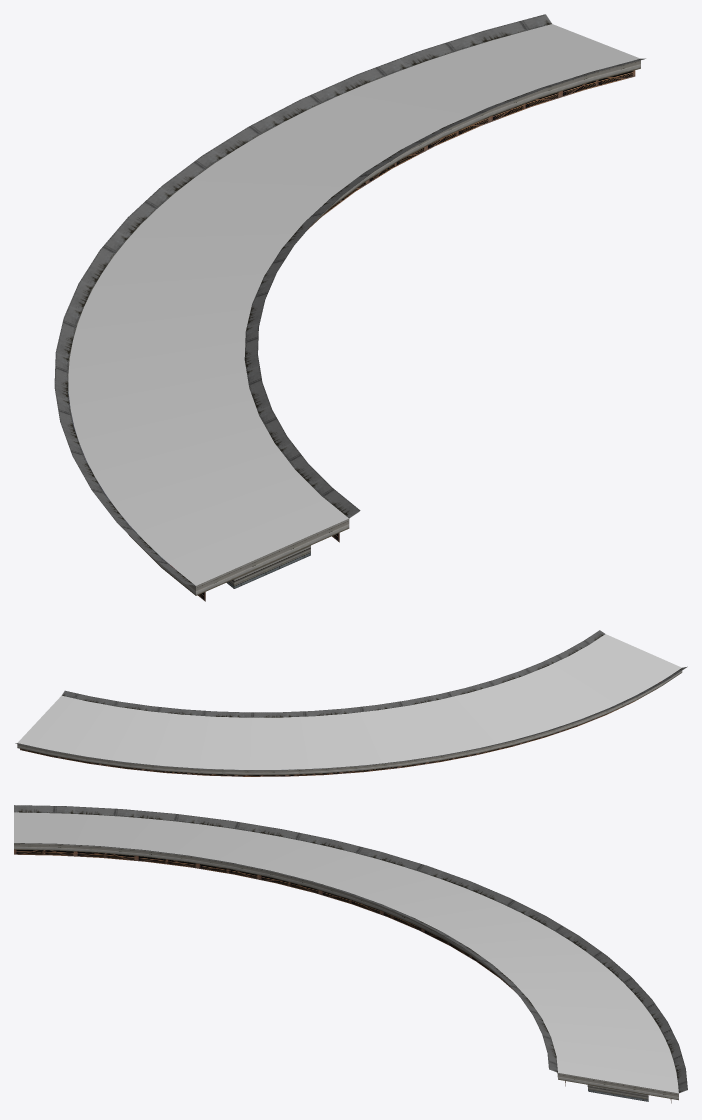
Rendered from Bend3x3BankedB.fbx.
3 views of the same model, one above another, from view 1: azimuth 30°, elevation 25°; view 2: azimuth 150°, elevation 25°; view 3: azimuth 270°, elevation 25° (orthographic). The views are drawn at different scales.
Parts seen in each view (by area): view 1: Empty_Mesh; view 2: Empty_Mesh; view 3: Empty_Mesh.
Boxes of the visible parts, box(x1,y1,x2,y2) form: Empty_Mesh: box(54, 14, 645, 601); Empty_Mesh: box(15, 630, 687, 776); Empty_Mesh: box(14, 805, 687, 1103).
Size of the model in its own units: 89.2 by 5.31 by 89.2.
